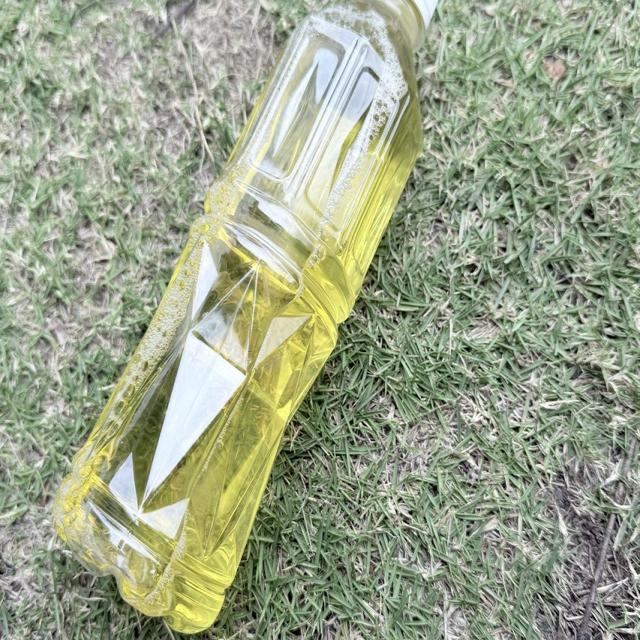high: (54, 0, 436, 631)
